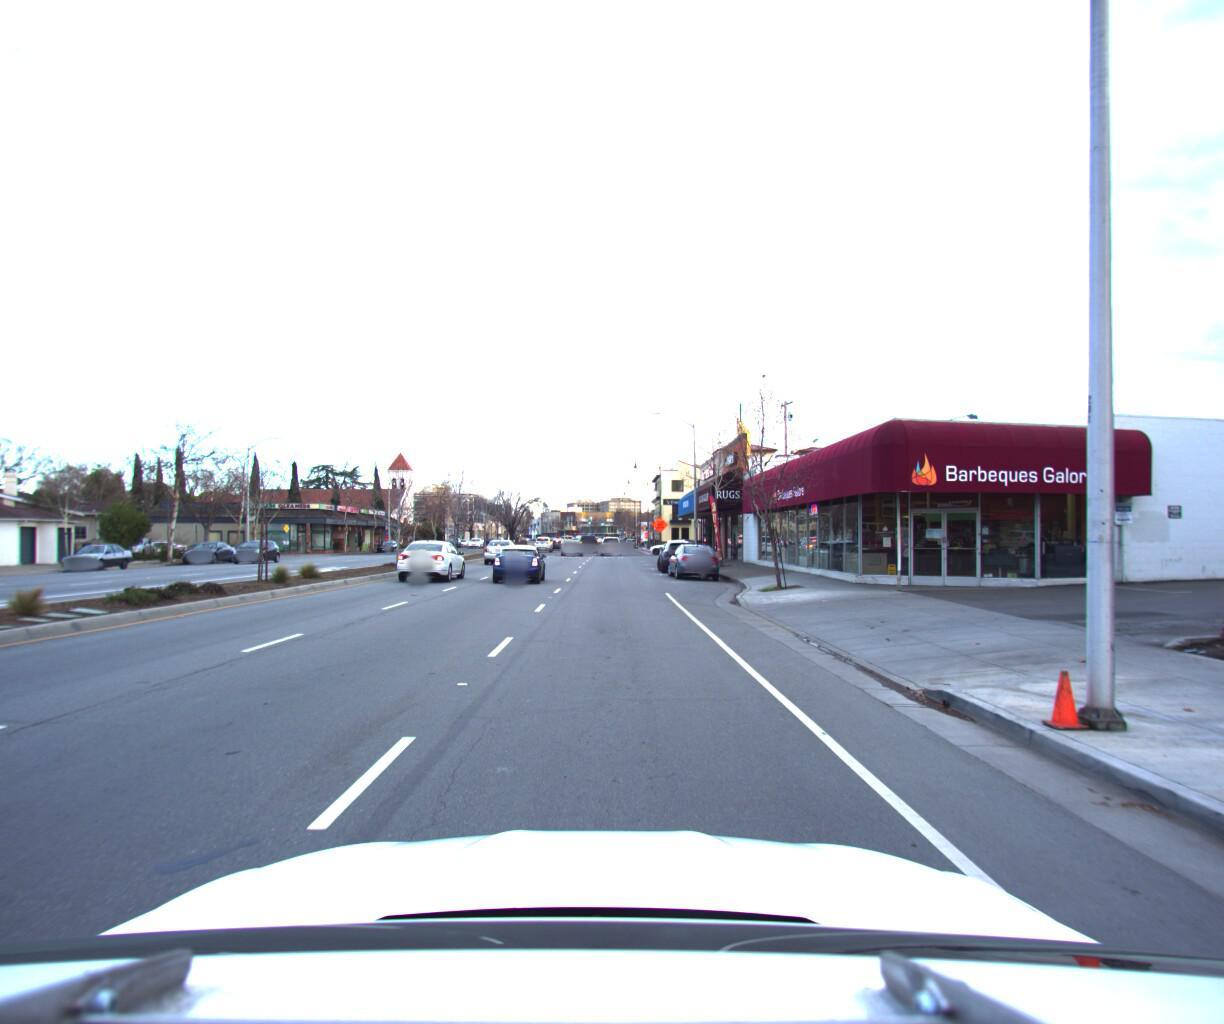car: (394, 538, 472, 585), (56, 535, 140, 567), (490, 537, 549, 579), (662, 535, 720, 574), (649, 530, 697, 566), (181, 534, 240, 557), (480, 532, 519, 559), (559, 534, 585, 555), (598, 529, 622, 549), (533, 526, 556, 543)
